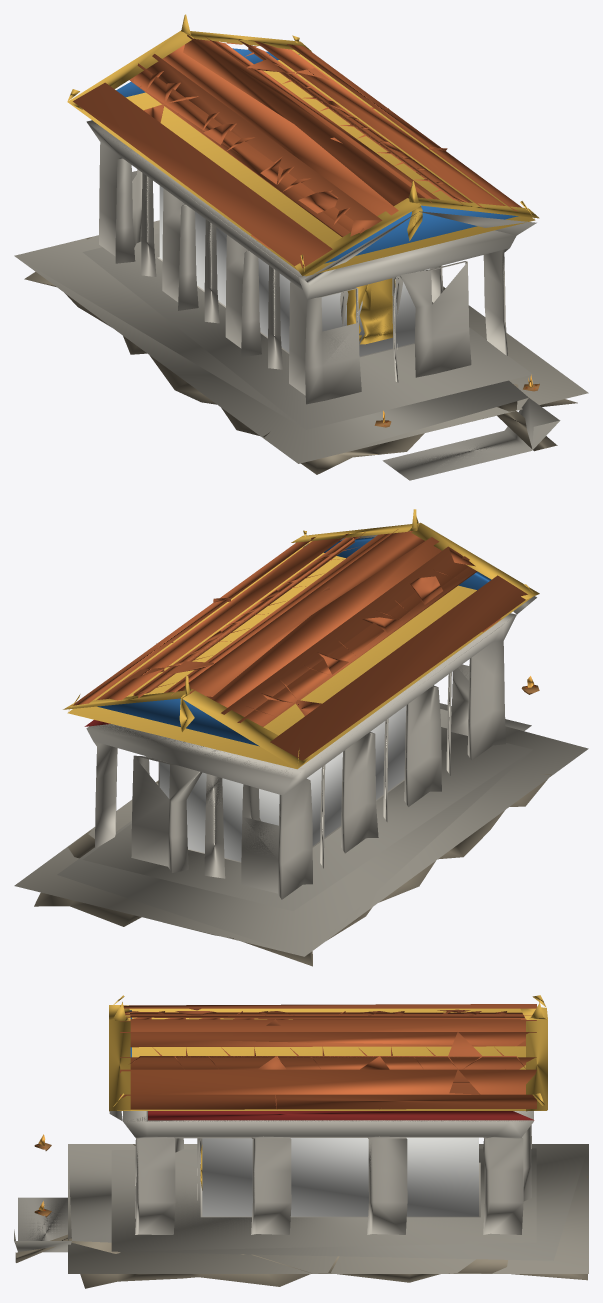
Rendered from civic_temple-zeus_stage4.glb.
3 views of the same model, one above another, from view 1: azimuth 30°, elevation 25°; view 2: azimuth 150°, elevation 25°; view 3: azimuth 270°, elevation 25° (orthographic). The views are drawn at different scales.
Visible parts, largest first — view 1: step, marble, tile1, gold, tile0, tile2, hall.001, stone, azure; view 2: marble, step, tile1, gold, tile0, tile2, hall.001, stone, azure; view 3: step, marble, tile0, tile2, hall.001, gold, tile1, stone, red.
Boxes of the visible parts, <box> form: step: <box>14,220,588,480</box>; marble: <box>86,120,536,404</box>; tile1: <box>73,45,468,268</box>; gold: <box>67,14,539,344</box>; tile0: <box>133,35,521,237</box>; tile2: <box>162,36,505,215</box>; hall.001: <box>159,186,429,356</box>; stone: <box>24,237,577,474</box>; azure: <box>116,48,518,263</box>; marble: <box>86,534,536,899</box>; step: <box>14,703,588,956</box>; tile1: <box>122,537,527,760</box>; gold: <box>63,509,539,769</box>; tile0: <box>71,531,477,725</box>; tile2: <box>96,529,441,707</box>; hall.001: <box>159,705,406,861</box>; stone: <box>34,774,551,966</box>; azure: <box>97,537,491,746</box>; step: <box>14,1144,588,1273</box>; marble: <box>109,1111,533,1234</box>; tile0: <box>120,1012,536,1109</box>; tile2: <box>120,1015,536,1094</box>; hall.001: <box>202,1137,478,1216</box>; gold: <box>109,995,547,1190</box>; tile1: <box>120,1004,536,1108</box>; stone: <box>15,1144,587,1288</box>; red: <box>148,1111,534,1120</box>.
Bounding box in the file's own units: 15.1 × 12.08 × 28.25.
